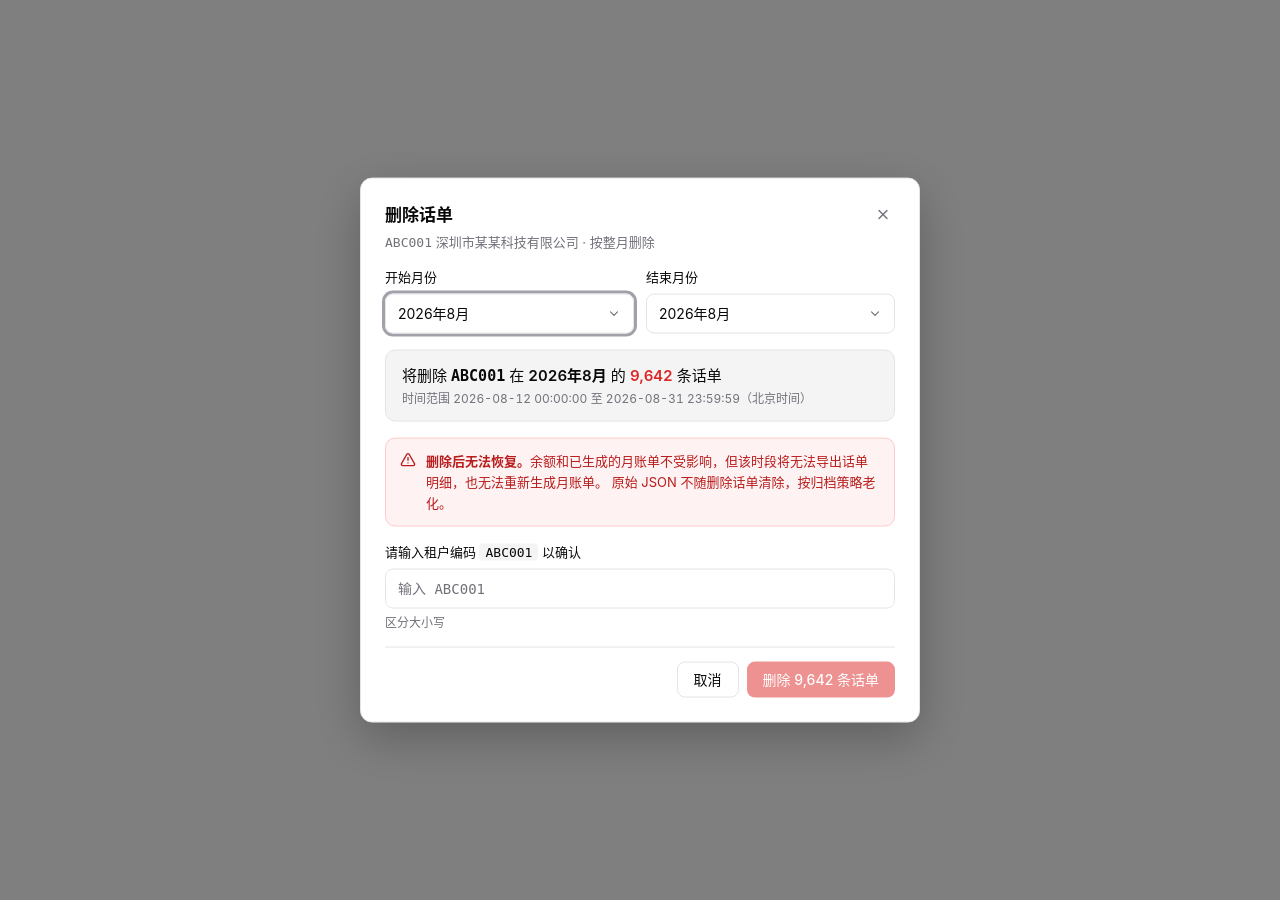
cdr delete dialog › disables the current, unsettled, future, and other non-deletable months
This screenshot has width=1280, height=900.
Click the button named "开始月份：2026年8月" at (510, 313), box [385,293,634,333]
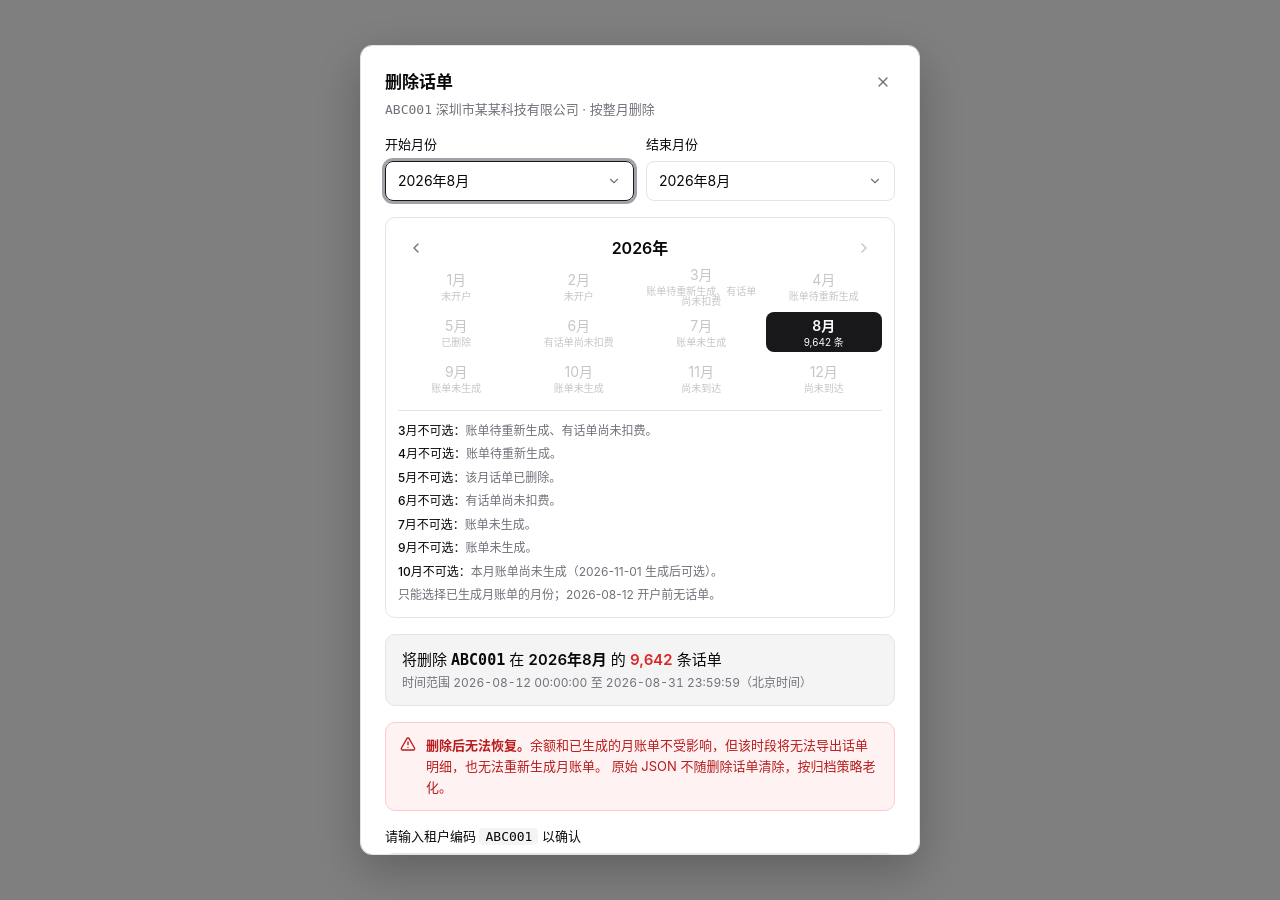
Expected: the button named "2026年8月，9,642 条" is enabled, [766,312,882,352]
Expected: the button with aria-label "2026年10月，账单未生成，本月账单尚未生成，不可选" is disabled, [520,358,637,398]
Expected: the button with aria-label "2026年9月，账单未生成，本月账单尚未生成，不可选" is disabled, [398,358,514,398]
